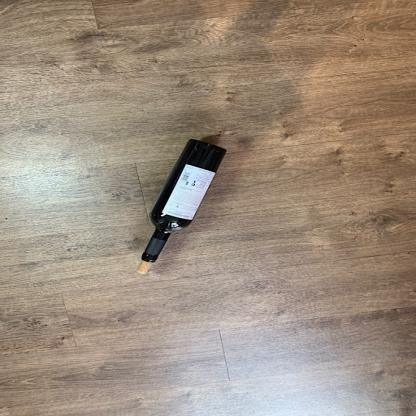trash: (136, 140, 226, 266)
